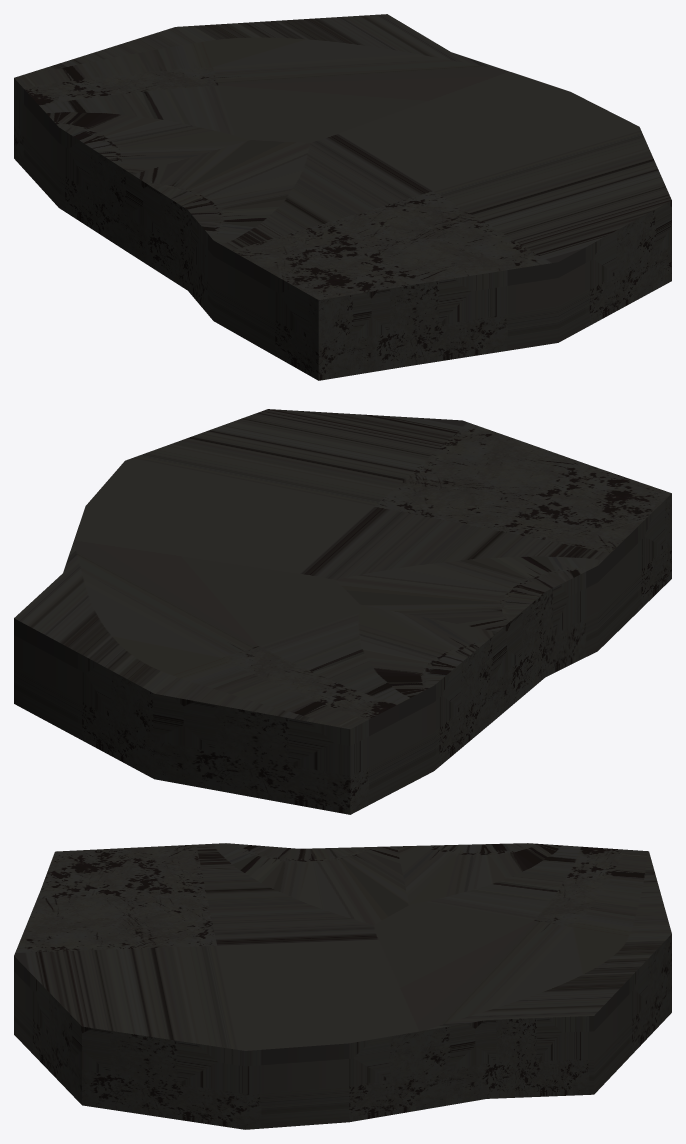
Rendered from Rubble05.FBX.
The picture shows the model from 3 angles, top to bottom: view 1: azimuth 30°, elevation 25°; view 2: azimuth 150°, elevation 25°; view 3: azimuth 270°, elevation 25°; orthographic projection. The views are drawn at different scales.
Visible parts, largest first — view 1: Rubbles002; view 2: Rubbles002; view 3: Rubbles002.
Part boxes in pixels (left/top/right/bottom): Rubbles002: left=14, top=14, right=671, bottom=380; Rubbles002: left=14, top=409, right=671, bottom=814; Rubbles002: left=14, top=843, right=671, bottom=1129.
Size of the model in its own units: 10177 by 1800 by 13615.
